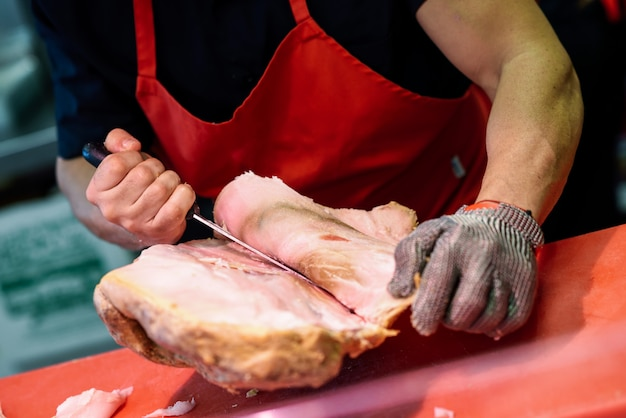knife: (187, 204, 319, 288)
